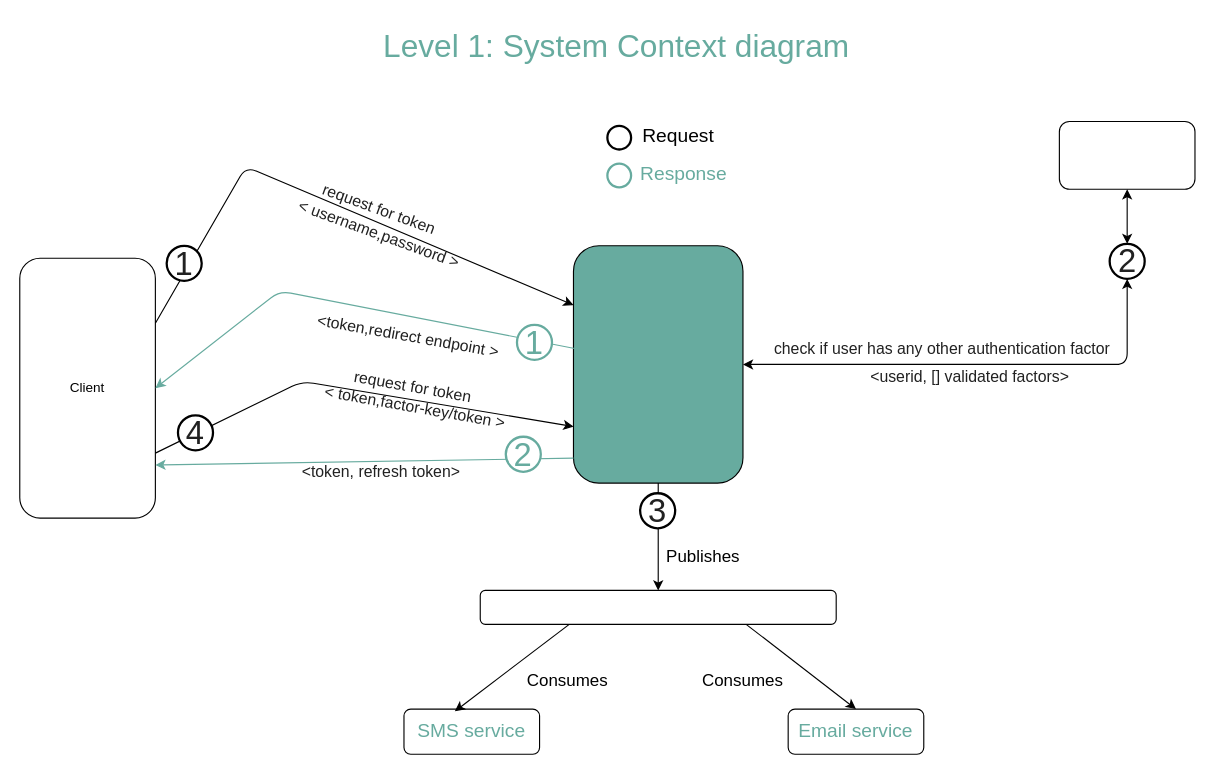
Image size: 1215x774. Some labels were removed from this diagram. The box of each missing label's shape, as (x1, y1, x2, y2) in pixels:
Event Bus: (479, 589, 836, 624)
Oauth Provider: (572, 245, 743, 483)
Policy Engine: (1058, 120, 1195, 189)
